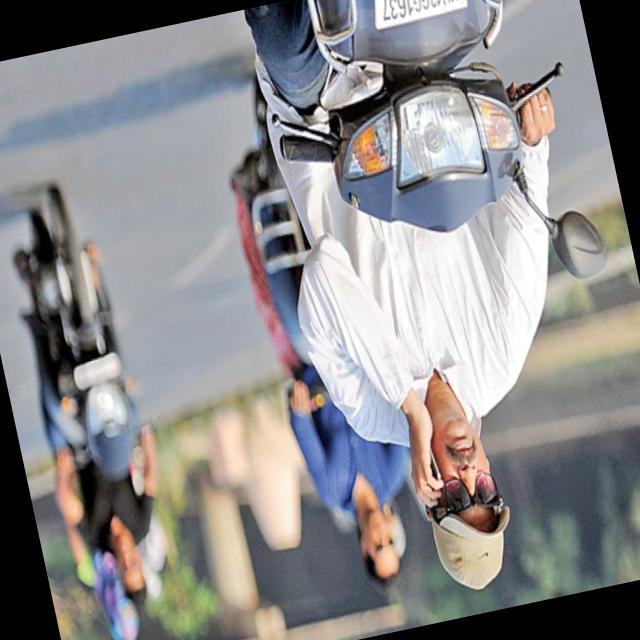USING_MOBILE: (286, 234, 448, 531)
